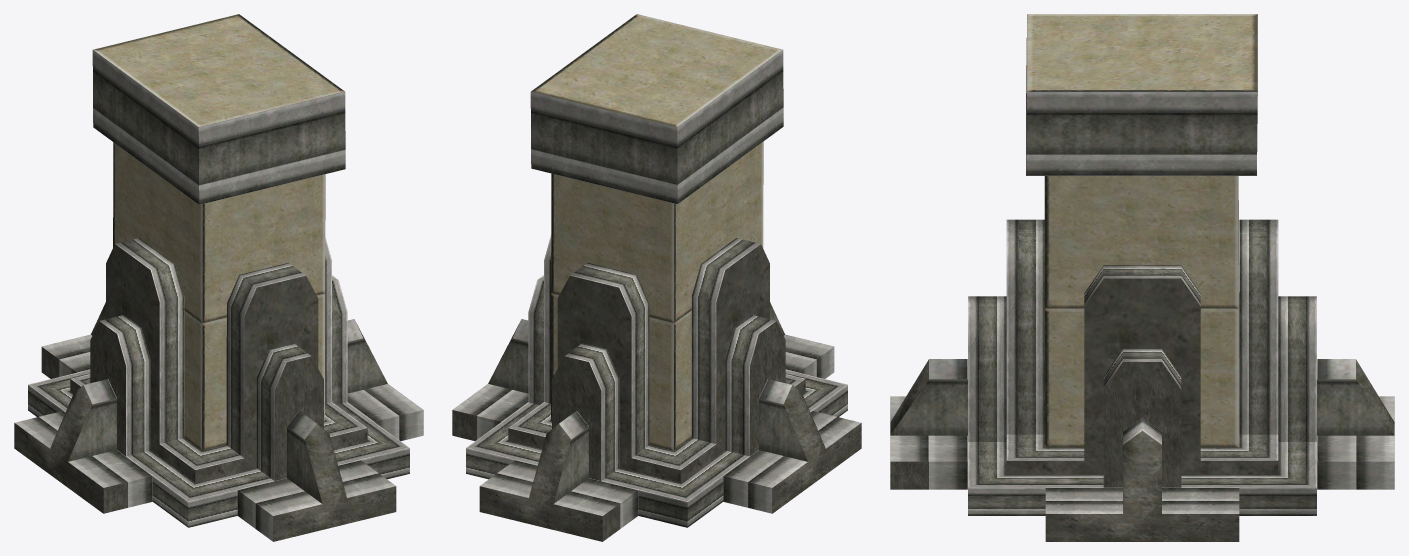
Rendered from DWARF_PALACE_MAINHALL_DEBREE05.fbx.
The picture shows the model from 3 angles, left to right: view 1: azimuth 30°, elevation 25°; view 2: azimuth 150°, elevation 25°; view 3: azimuth 270°, elevation 25°; orthographic projection. The views are drawn at different scales.
Parts seen in each view (by area): view 1: DWARF_PALACE_MAINHALL_DEBREE05; view 2: DWARF_PALACE_MAINHALL_DEBREE05; view 3: DWARF_PALACE_MAINHALL_DEBREE05.
Part boxes in pixels (x1,y1,x2,y2): DWARF_PALACE_MAINHALL_DEBREE05: (14,14,423,541); DWARF_PALACE_MAINHALL_DEBREE05: (452,14,861,541); DWARF_PALACE_MAINHALL_DEBREE05: (890,14,1394,541).
Size of the model in its own units: 52000 by 57656 by 65213.
5 materials, 5 textured.
